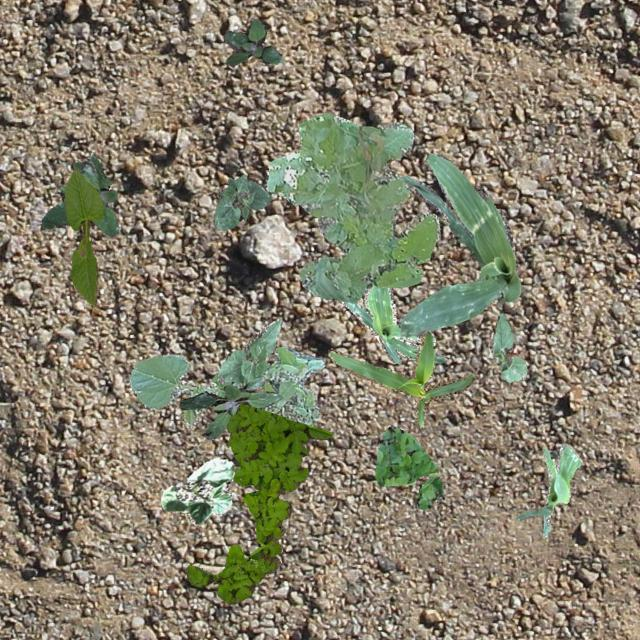crop: (396, 152, 520, 336), (326, 330, 474, 428), (340, 284, 446, 362), (128, 354, 225, 426), (516, 442, 580, 536), (160, 456, 234, 524), (64, 168, 100, 304), (216, 318, 280, 386), (212, 174, 270, 228), (490, 314, 526, 382)
weed: (266, 111, 438, 302), (184, 404, 330, 604), (178, 374, 280, 438), (41, 153, 118, 234), (374, 426, 442, 508), (260, 346, 324, 426), (222, 19, 280, 64)
